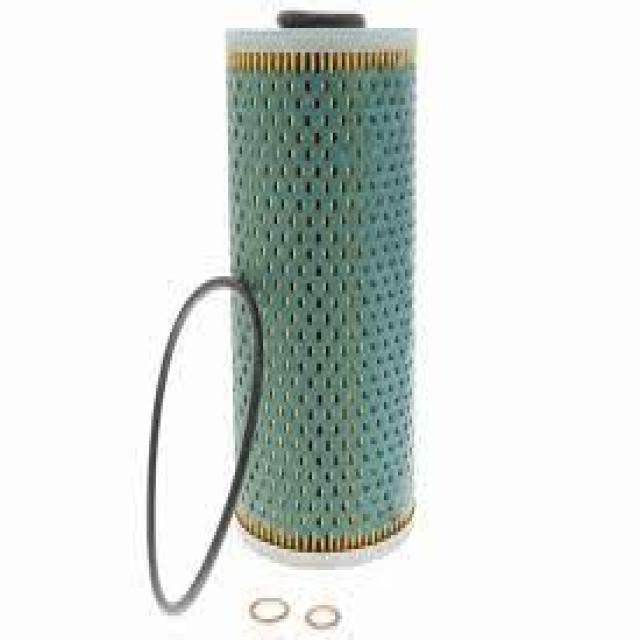oil_filter: (219, 4, 429, 578)
